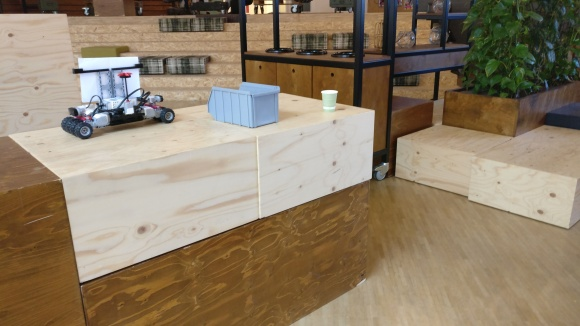cup: (319, 88, 338, 111)
tray: (206, 80, 282, 128)
